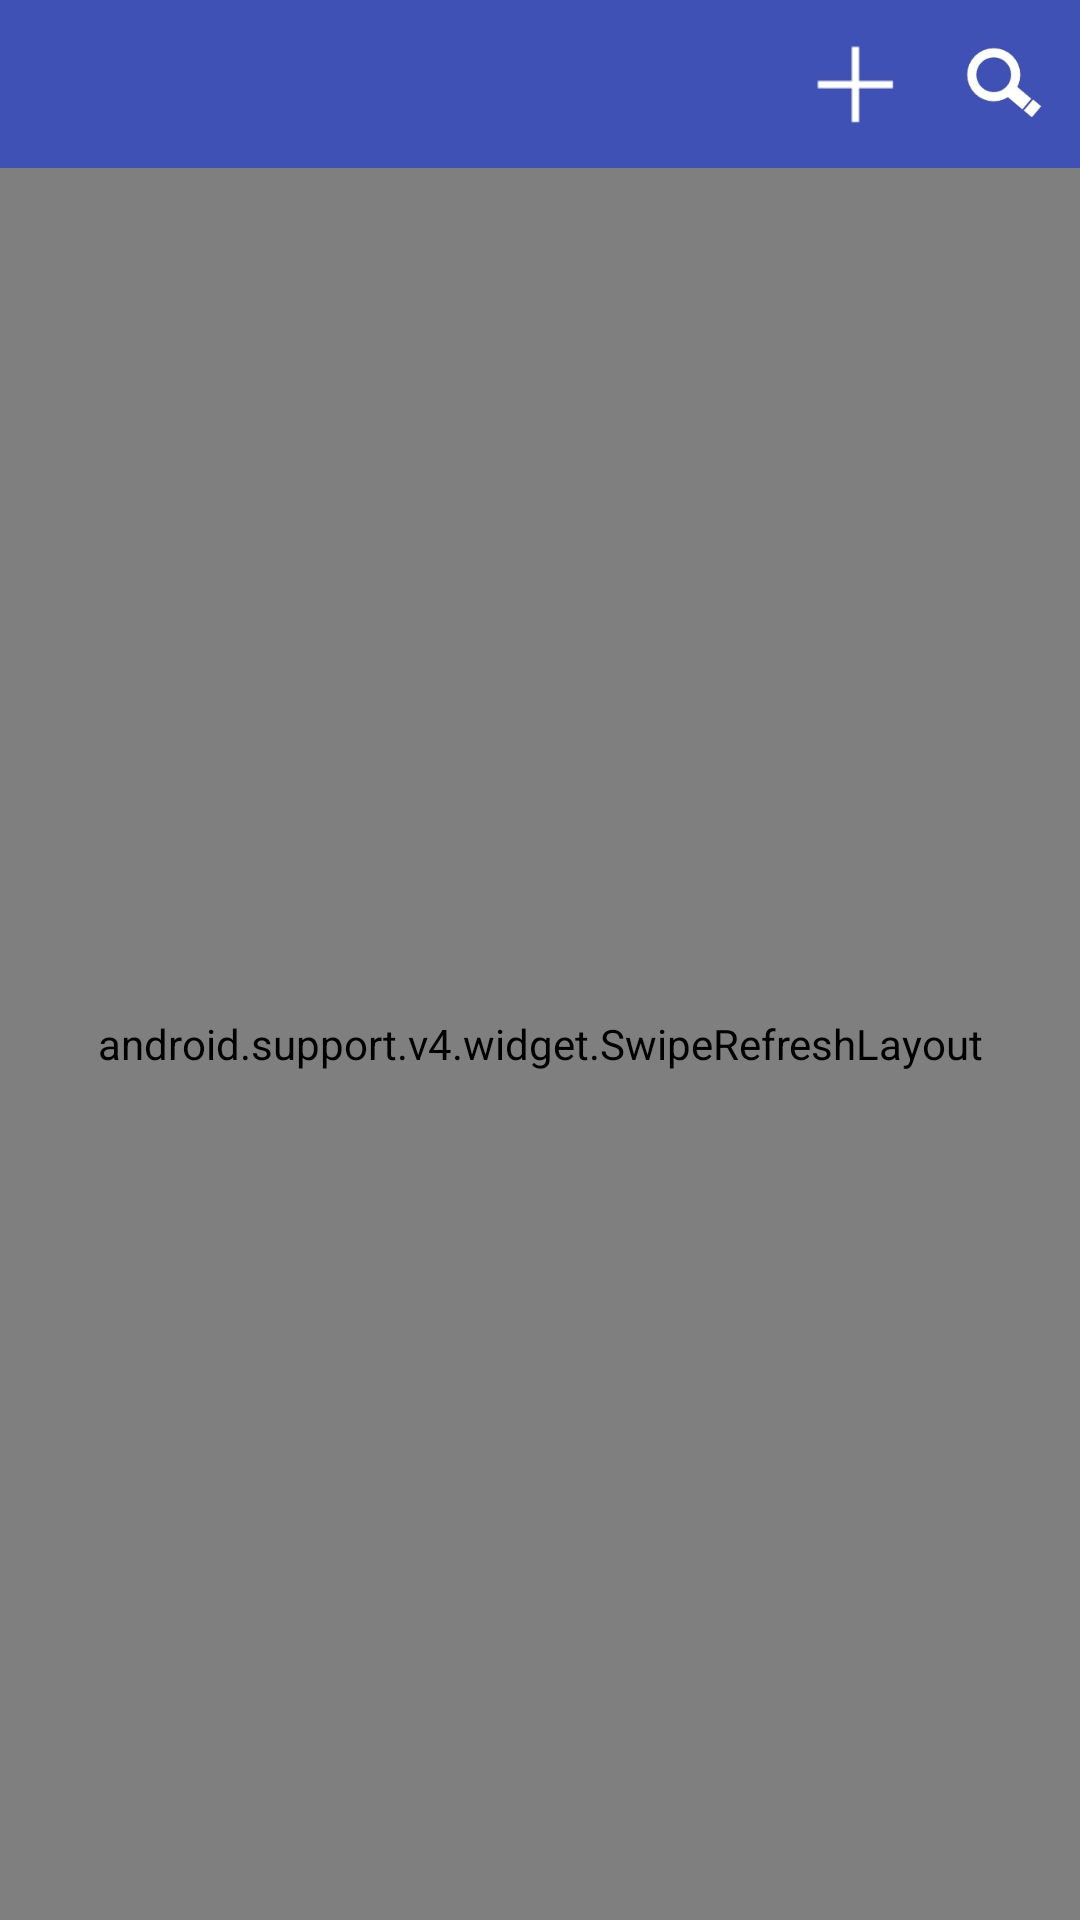

Icons on this 1080px×1920px Android screen, each with its box as bbox=(x1, y1, x2, y2):
plus: bbox=(817, 46, 893, 123)
search: bbox=(967, 48, 1041, 117)
